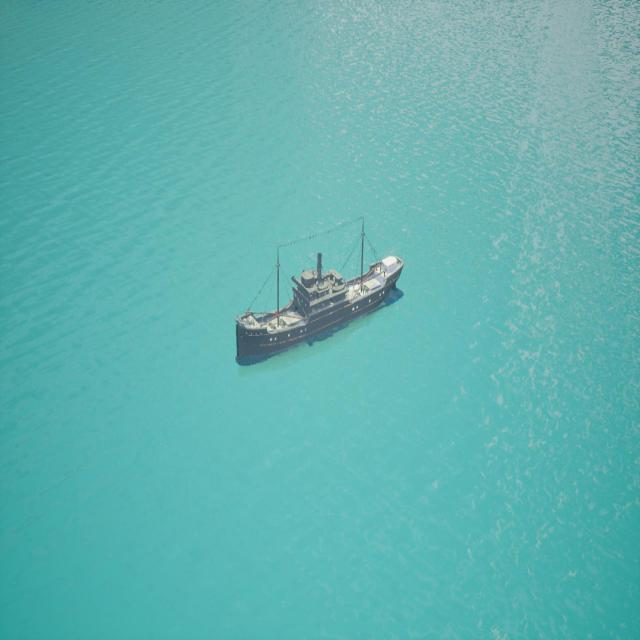fishing ship: (235, 248, 406, 367)
